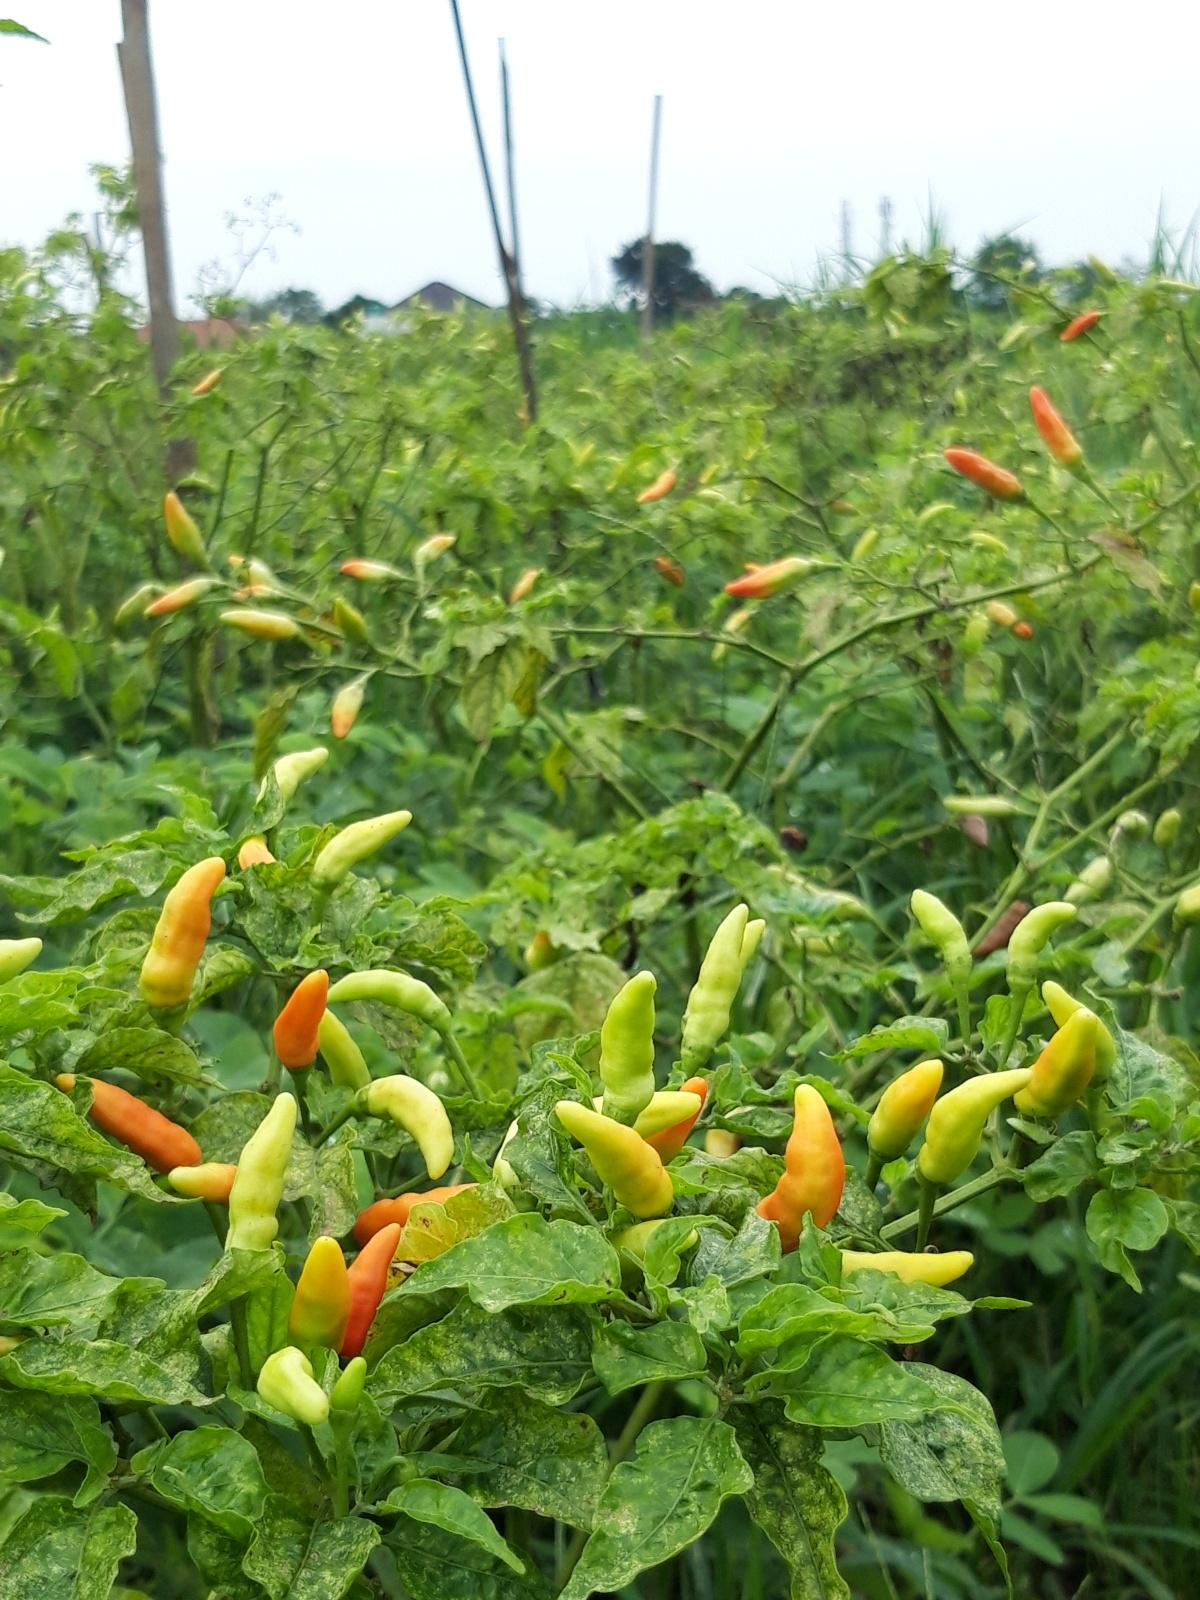cabai_normal: (753, 1083, 845, 1251), (55, 1072, 202, 1169), (141, 854, 227, 1008), (555, 1102, 673, 1213), (223, 1092, 297, 1259), (684, 901, 750, 1049), (921, 1071, 1007, 1183), (368, 1073, 456, 1179), (339, 1223, 403, 1362), (1016, 1010, 1098, 1115), (600, 970, 658, 1110), (287, 1236, 352, 1354), (1042, 979, 1117, 1081), (867, 1060, 943, 1158), (314, 810, 412, 886), (326, 968, 442, 1023), (258, 1343, 332, 1422), (274, 969, 329, 1067), (910, 887, 971, 966), (841, 1250, 974, 1285), (255, 747, 329, 810), (1010, 901, 1076, 966), (943, 446, 1021, 501), (1030, 386, 1080, 465), (722, 558, 813, 597), (168, 1162, 239, 1204), (145, 580, 216, 617), (232, 556, 285, 603), (219, 610, 297, 641), (165, 493, 203, 556), (333, 598, 371, 645), (333, 685, 366, 737), (340, 561, 402, 585), (1059, 309, 1102, 341), (637, 472, 678, 503), (509, 567, 536, 607), (192, 367, 227, 397), (657, 556, 684, 587)
